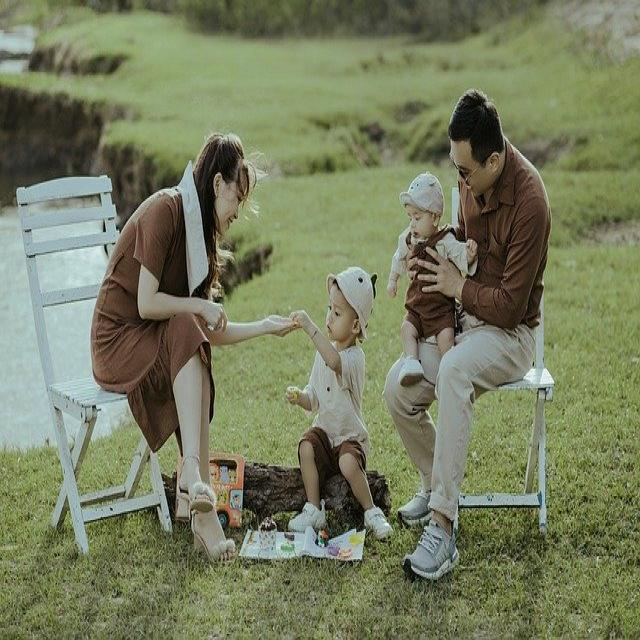adult: (90, 132, 304, 564), (383, 89, 553, 579)
child: (286, 267, 394, 542), (387, 172, 481, 387)
